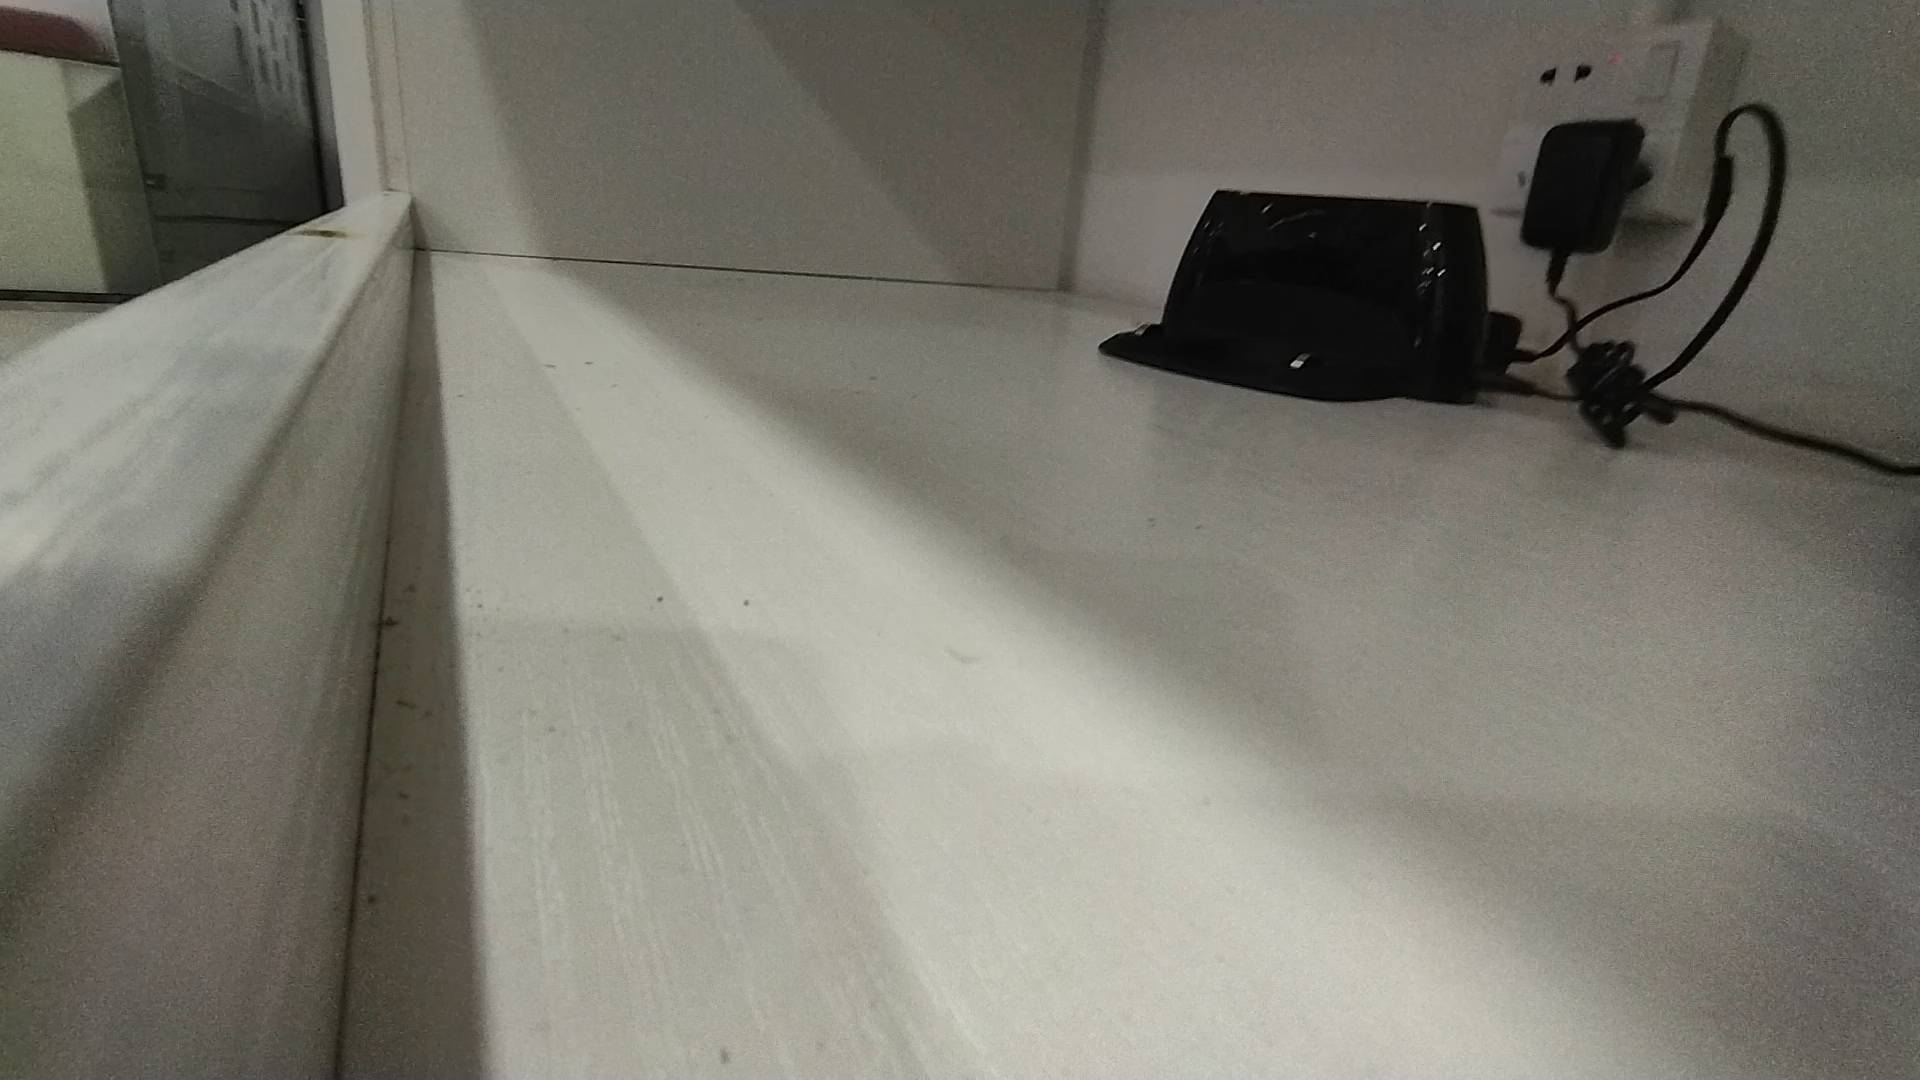recharge seat: (1101, 187, 1493, 404)
